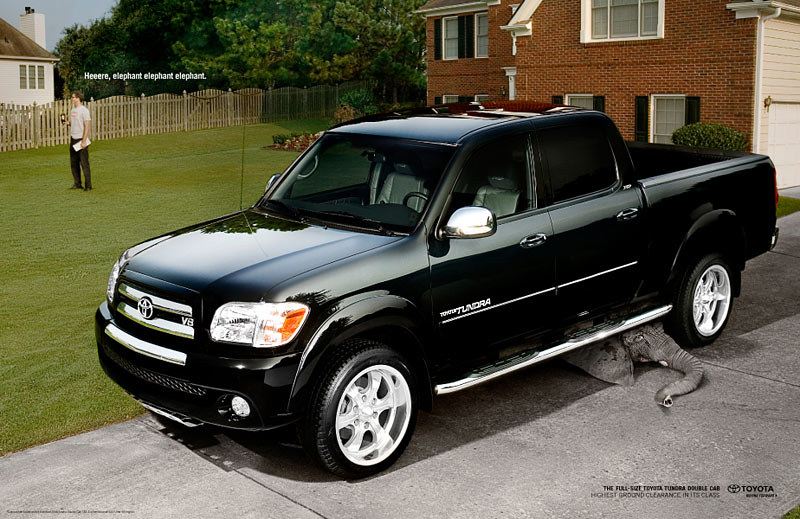car: (92, 102, 775, 481)
